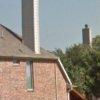Chimney: (70, 19, 94, 49)
